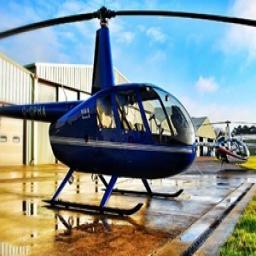helicopter: (2, 9, 256, 220)
